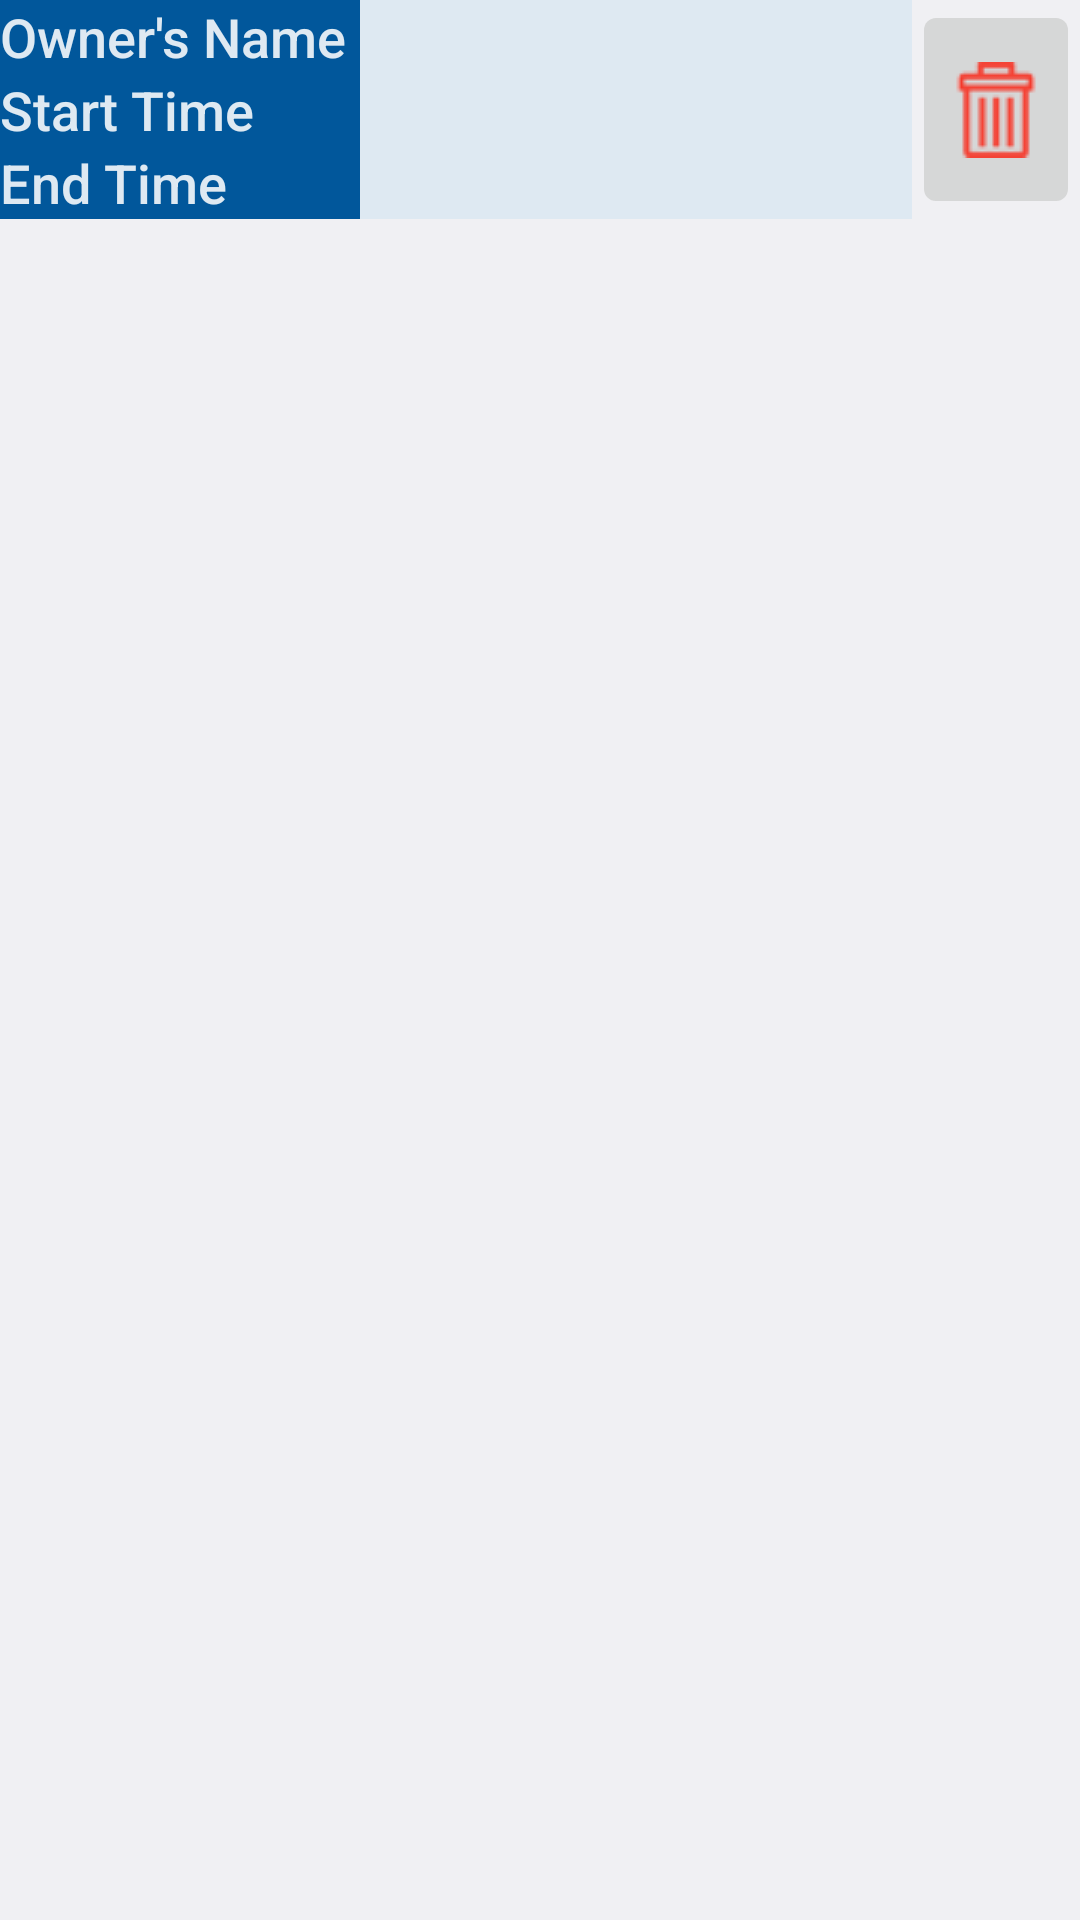

Icon bounding boxes for this 1080 × 1920 phone screenshot, format (x1, y1, x2, y2):
delete: (924, 18, 1068, 201)
